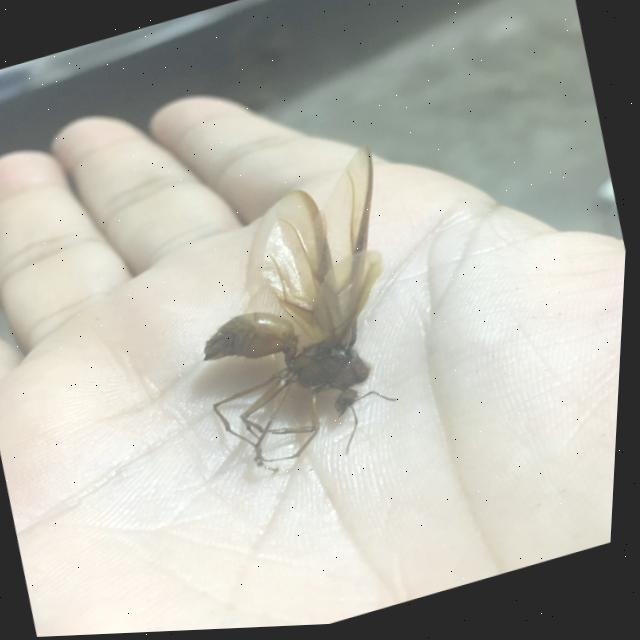Dead-Male-Alate: (161, 144, 444, 495)
